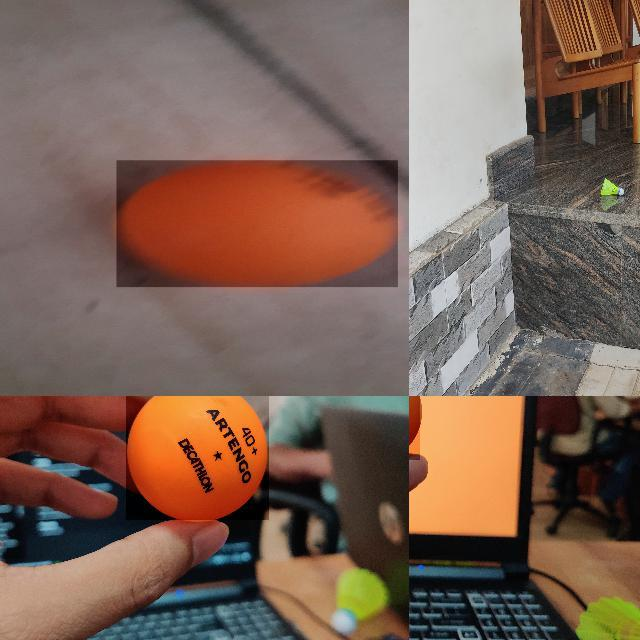ping-pong-ball: (116, 160, 400, 288), (126, 396, 271, 522)
